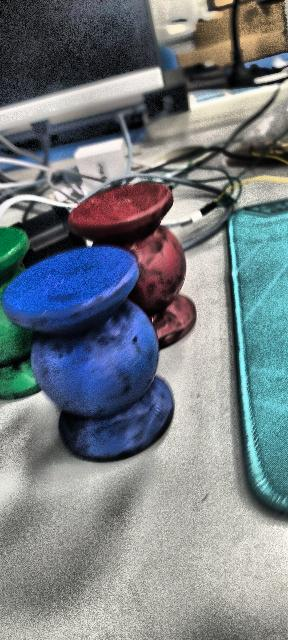blue: (0, 250, 175, 467)
green: (0, 212, 37, 398)
red: (70, 188, 205, 350)
